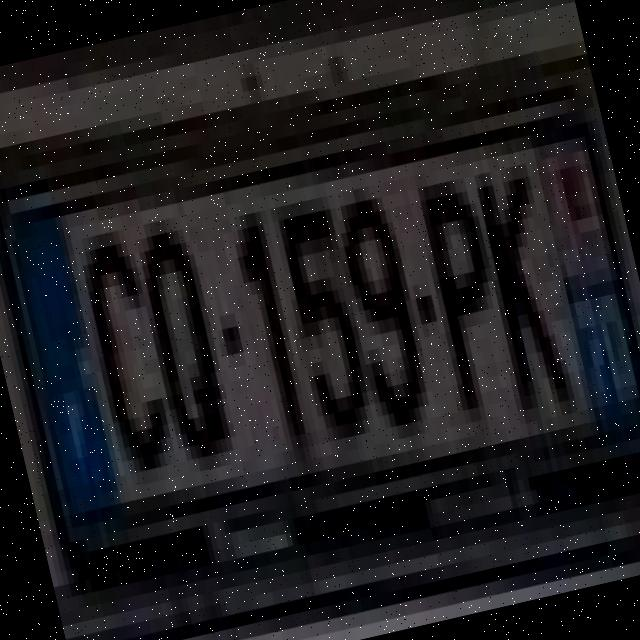EU: (0, 62, 640, 585)
France: (4, 204, 123, 518)
